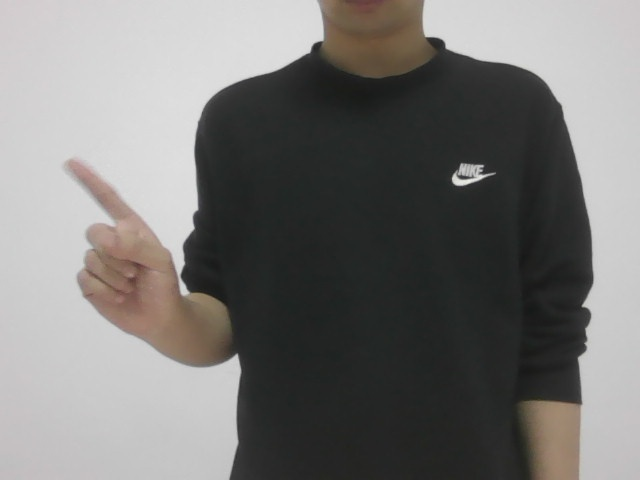what: (39, 148, 181, 351)
